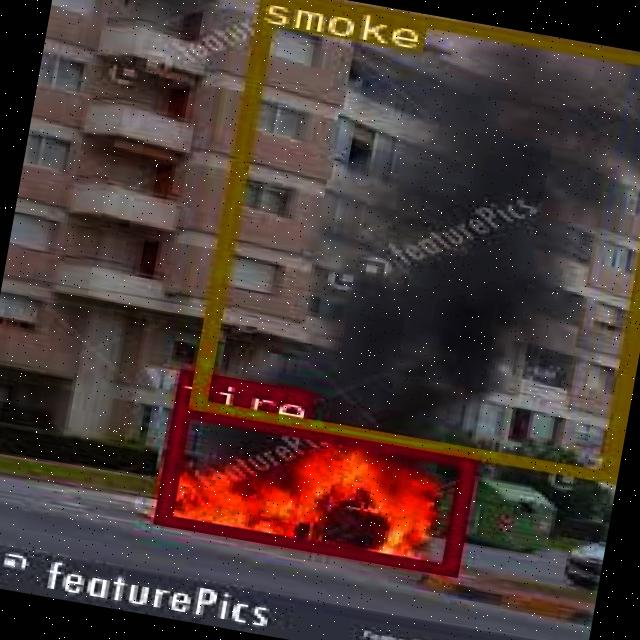fire: (151, 402, 475, 574)
smoke: (185, 0, 640, 479)
